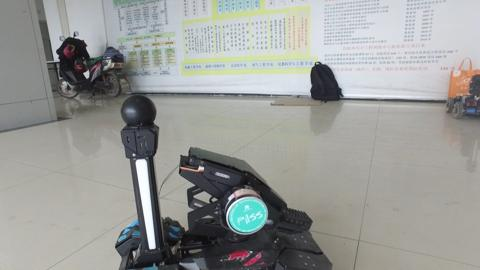bag: (306, 60, 347, 105), (446, 55, 480, 102)
chariot: (109, 93, 336, 269)
